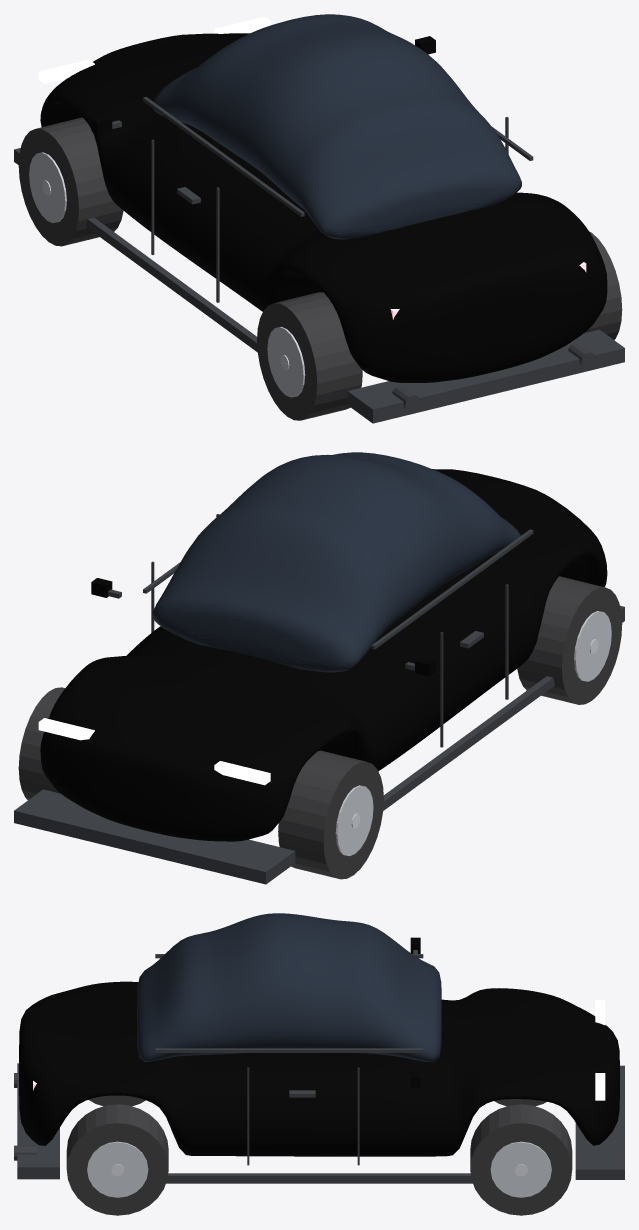
File: pico-s.glb
The picture shows the model from 3 angles, top to bottom: view 1: azimuth 30°, elevation 25°; view 2: azimuth 150°, elevation 25°; view 3: azimuth 270°, elevation 25°; orthographic projection. The views are drawn at different scales.
Parts seen in each view (by area): view 1: Body, Glass, Trim, WheelRL, WheelFL, WheelRR, LightFront; view 2: Body, Glass, Trim, WheelFL, WheelRL, WheelFR, LightFront; view 3: Body, Glass, Trim, WheelFR, WheelRR, LightFront, WheelRL.
Boxes of the visible parts, x1,y1,x2,y2 form: Body: (40, 33, 607, 382); Glass: (153, 14, 521, 239); Trim: (14, 36, 624, 423); WheelRL: (257, 292, 362, 420); WheelFL: (18, 117, 123, 246); WheelRR: (584, 231, 622, 339); LightFront: (38, 16, 270, 83); Body: (40, 469, 607, 841); Glass: (152, 452, 520, 672); Trim: (14, 514, 624, 884); WheelFL: (278, 750, 383, 879); WheelRL: (517, 576, 622, 704); WheelFR: (18, 687, 64, 799); LightFront: (38, 718, 270, 785); Body: (19, 981, 619, 1156); Glass: (137, 913, 441, 1062); Trim: (14, 937, 624, 1183); WheelFR: (470, 1104, 572, 1215); WheelRR: (66, 1104, 168, 1215); LightFront: (595, 1000, 605, 1100); WheelRL: (88, 1095, 145, 1106).
Size of the model in its own units: 2.01 by 1.51 by 3.71.
6 materials, 1 textured.
